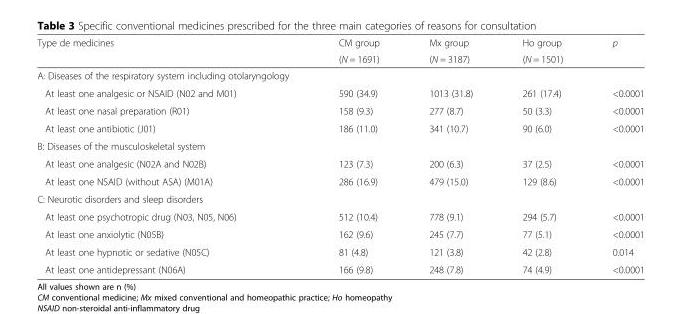table: (36, 36, 643, 274)
table column: (36, 36, 313, 274), (403, 36, 496, 274), (496, 36, 587, 274), (313, 36, 403, 274), (587, 36, 643, 274)
table column header: (36, 36, 643, 66)
table projected row header: (36, 66, 643, 84), (36, 136, 643, 154), (36, 189, 643, 207)
table row: (36, 66, 643, 84), (36, 101, 643, 119), (36, 136, 643, 154), (36, 154, 643, 172), (36, 189, 643, 207), (36, 207, 643, 225), (36, 242, 643, 260), (36, 84, 643, 101), (36, 119, 643, 136), (36, 172, 643, 189), (36, 225, 643, 242), (36, 50, 643, 66), (36, 36, 643, 50), (36, 260, 643, 274)
table spanning cell: (36, 36, 313, 66), (403, 36, 496, 66), (496, 36, 587, 66), (313, 36, 403, 66), (587, 36, 643, 66)
